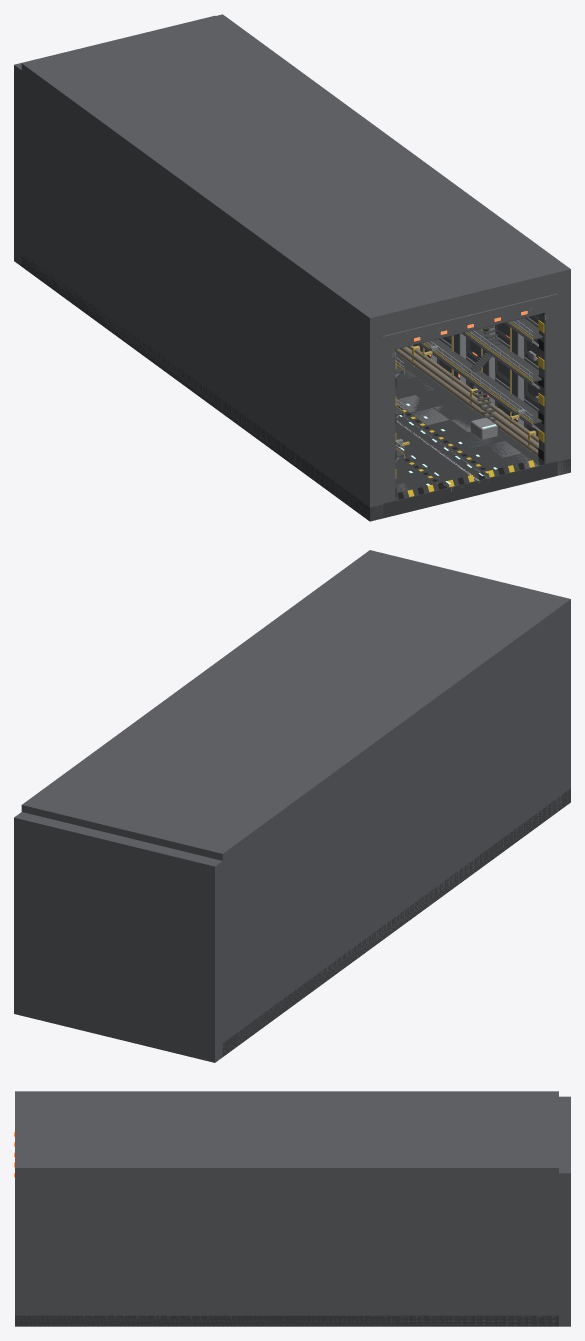
File: hangar.glb
The picture shows the model from 3 angles, top to bottom: view 1: azimuth 30°, elevation 25°; view 2: azimuth 150°, elevation 25°; view 3: azimuth 270°, elevation 25°; orthographic projection. The views are drawn at different scales.
Visible parts, largest first — view 1: hangar; view 2: hangar; view 3: hangar.
Part boxes in pixels (<box>): hangar: <box>14,14,570,521</box>; hangar: <box>14,550,570,1062</box>; hangar: <box>14,1091,570,1326</box>.
Size of the model in its own units: 30 by 29 by 92.15.
